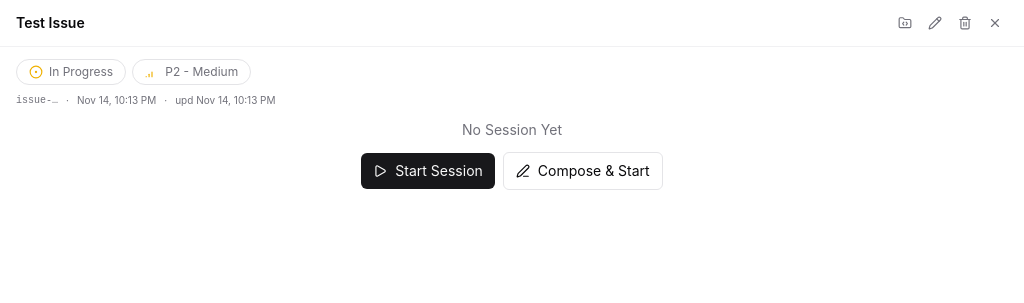
Test: IssueDetailView — SessionPanel integration › enters compose mode when Compose & Start is clicked
Click the button with aria-label "compose and start" at point(583, 171), box [503,152,663,190]
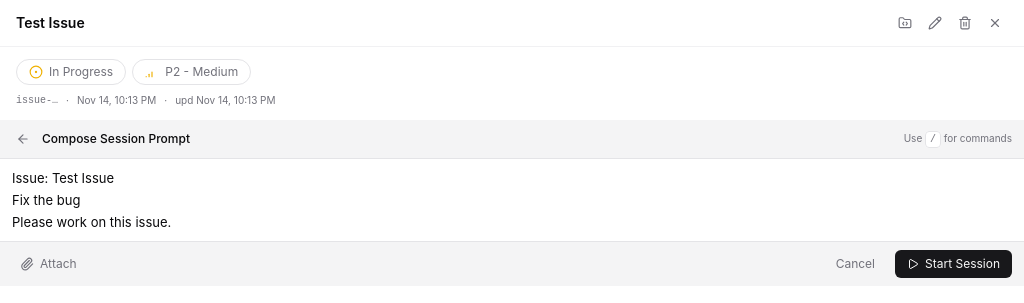
Expected: the text "Compose Session Prompt" is shown, [42,131,190,147]
Expected: the field shows "Test Issue", [12,170,171,230]
